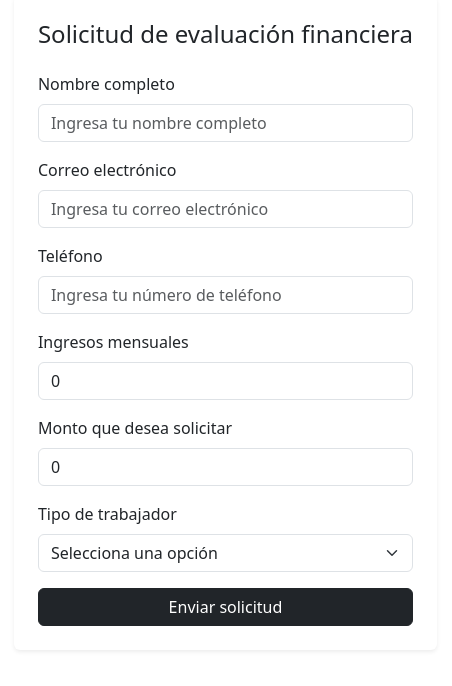
Test: Campos obligatorios › no muestra previsualización si el nombre está vacío
The width and height of the screenshot is (452, 686).
Type "juan@correo.com" into the field with id "correo" at (225, 209), box [38, 190, 413, 228]
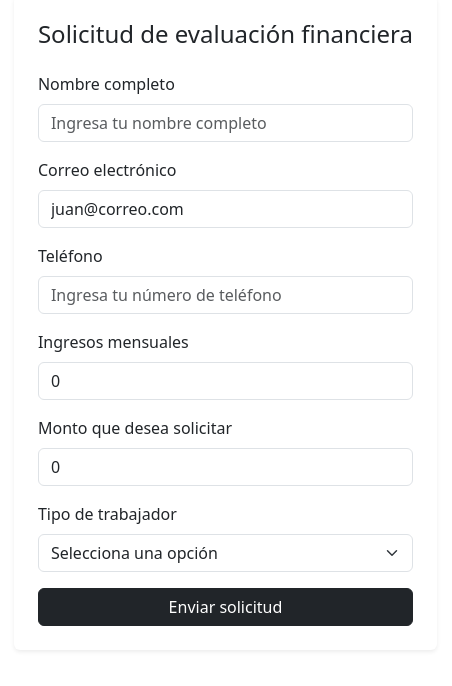
Type "912345678" into the field with id "telefono" at (225, 295), box [38, 276, 413, 314]
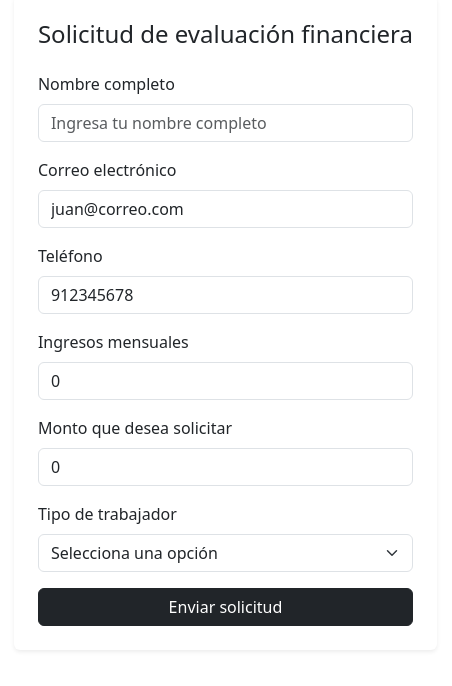
Replace the text in the number field with id "ingresos" with "1500000" at (225, 381), box [38, 362, 413, 400]
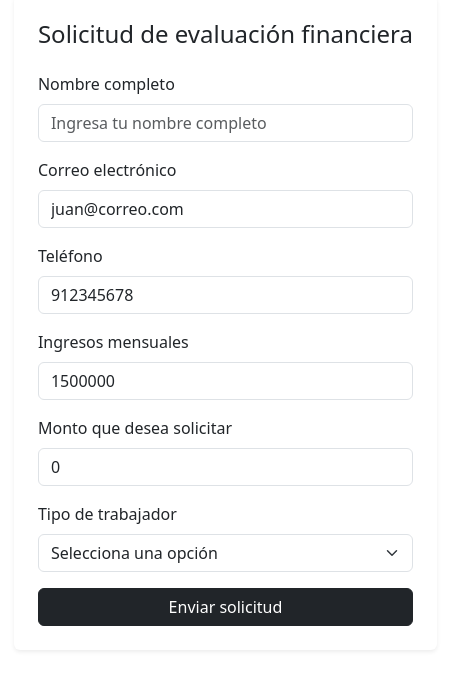
Replace the text in the number field with id "monto" with "500000" at (225, 467), box [38, 448, 413, 486]
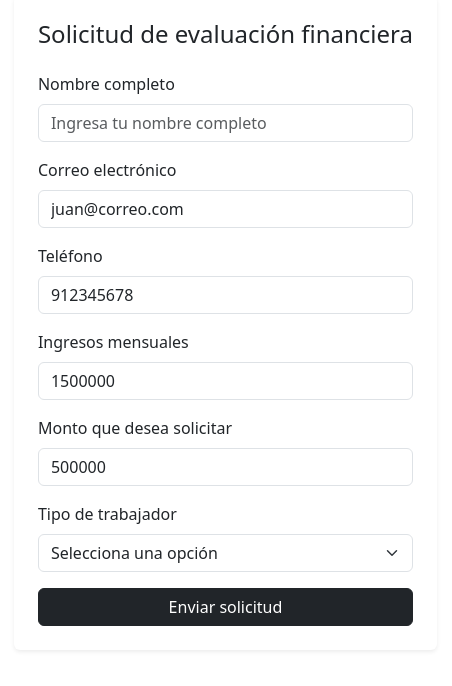
Select "Dependiente" in the dropdown with id "trabajador" at (225, 553), box [38, 534, 413, 572]
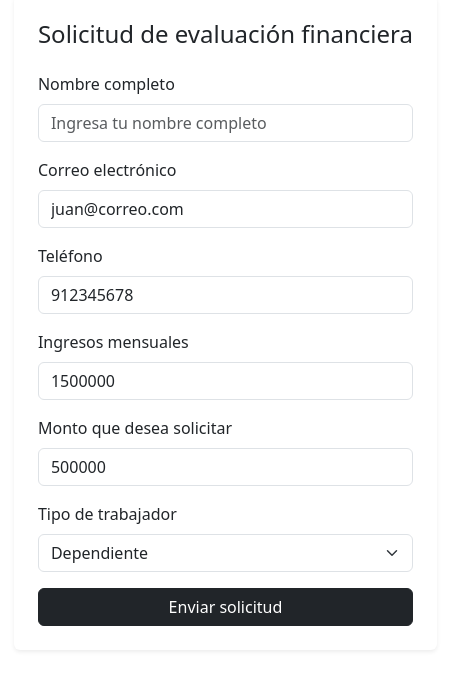
Click the button "Enviar solicitud" at (225, 607), box [38, 588, 413, 626]
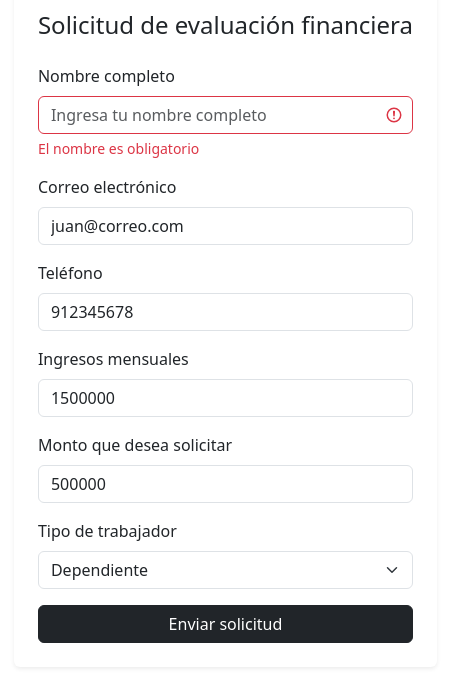
expect the text "El nombre es obligatorio" is shown: met, box [38, 139, 199, 158]
